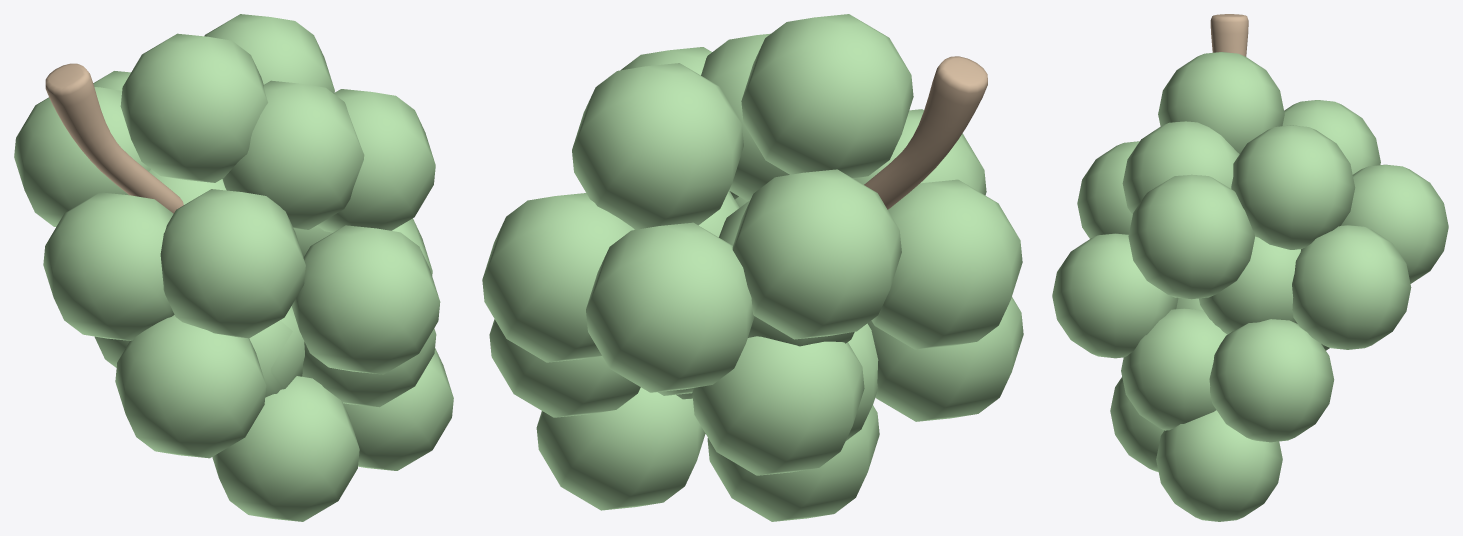
The model's file is greengrape.glb.
The picture shows the model from 3 angles, left to right: view 1: azimuth 30°, elevation 25°; view 2: azimuth 150°, elevation 25°; view 3: azimuth 270°, elevation 25°; orthographic projection. The views are drawn at different scales.
Parts seen in each view (by area): view 1: Sphere 9, Sphere, Sphere 12, Sphere 2, Sphere 8, Sphere 3, Sphere 18, Sphere 10, Sphere 13, Sphere 5, rop, Sphere 11 (+7 smaller); view 2: Sphere 17, Sphere 11, Sphere 13, Sphere 12, Sphere 8, Sphere 16, Sphere 14, Sphere 5, Sphere 2, Sphere 3, rop, Sphere 6 (+6 smaller); view 3: Sphere 10, Sphere 6, Sphere 14, Sphere 11, Sphere, Sphere 5, Sphere 4, Sphere 12, Sphere 17, Sphere 18, Sphere 19, Sphere 9 (+3 smaller).
Part boxes in pixels (x1,y1,x2,y2): Sphere 9: (160, 189, 305, 338); Sphere: (292, 225, 440, 374); Sphere 12: (120, 33, 267, 182); Sphere 2: (115, 315, 266, 458); Sphere 8: (43, 192, 174, 340); Sphere 3: (212, 376, 359, 521); Sphere 18: (222, 80, 364, 229); Sphere 10: (317, 89, 435, 232); Sphere 13: (14, 87, 150, 226); Sphere 5: (343, 348, 453, 470); rop: (45, 63, 183, 213); Sphere 11: (204, 14, 334, 93); Sphere 17: (586, 222, 754, 392); Sphere 11: (572, 63, 743, 229); Sphere 13: (732, 169, 901, 339); Sphere 12: (741, 14, 913, 178); Sphere 8: (871, 179, 1022, 349); Sphere 16: (692, 336, 864, 475); Sphere 14: (482, 193, 634, 362); Sphere 5: (536, 387, 705, 510); Sphere 2: (867, 297, 1023, 421); Sphere 3: (707, 405, 879, 521); rop: (864, 56, 987, 209); Sphere 6: (489, 319, 640, 417); Sphere 10: (1128, 174, 1254, 299); Sphere 6: (1209, 319, 1334, 442); Sphere 14: (1292, 225, 1411, 349); Sphere 11: (1231, 125, 1355, 249); Sphere: (1052, 233, 1178, 358); Sphere 5: (1156, 410, 1282, 521); Sphere 4: (1121, 308, 1227, 430); Sphere 12: (1158, 52, 1284, 153); Sphere 17: (1341, 164, 1448, 283); Sphere 18: (1122, 121, 1239, 214); Sphere 19: (1199, 236, 1300, 334); Sphere 9: (1077, 141, 1139, 238).
Size of the model in its own units: 1.84 by 2.02 by 1.88.
